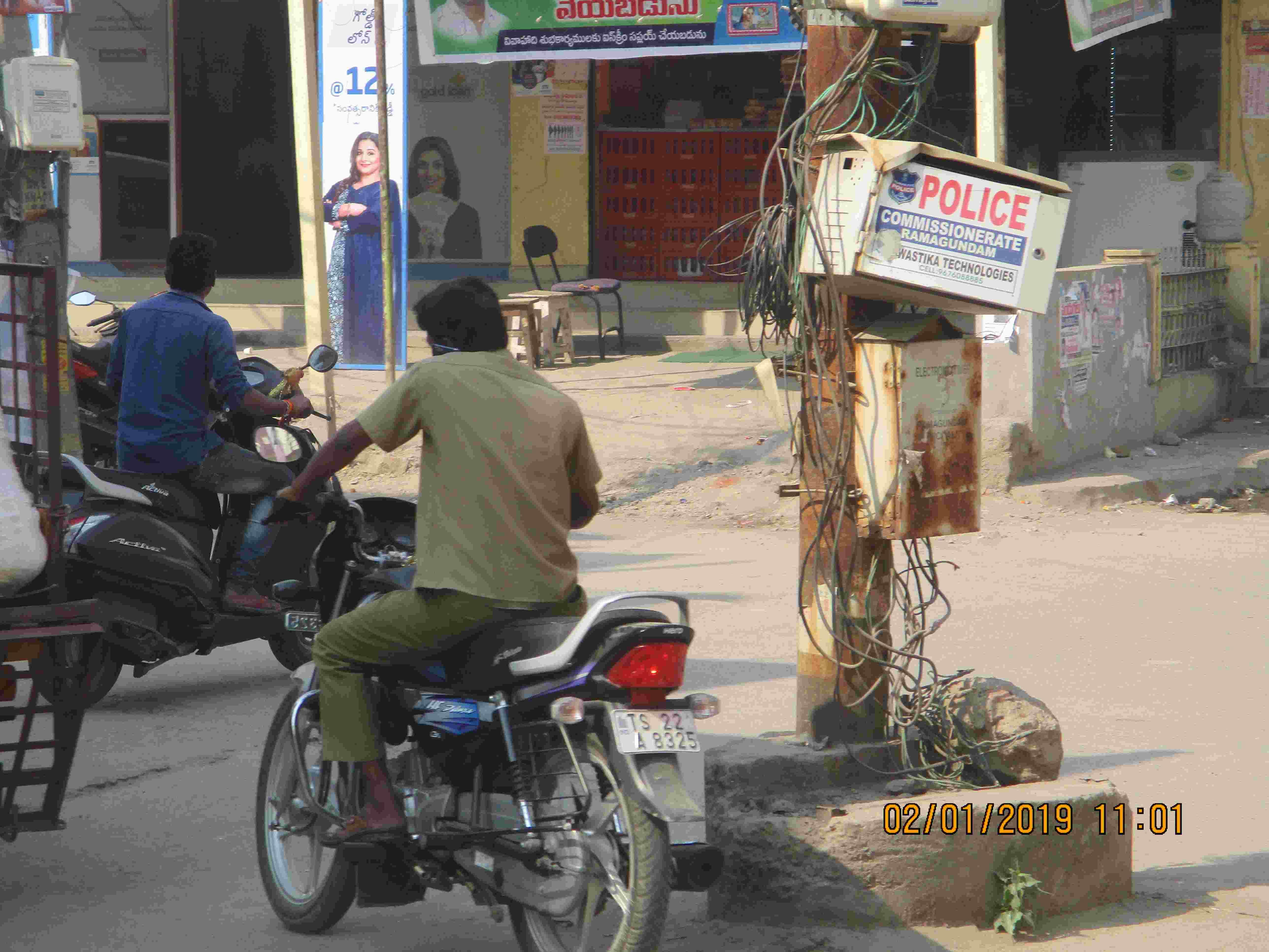plate: (603, 700, 710, 763)
